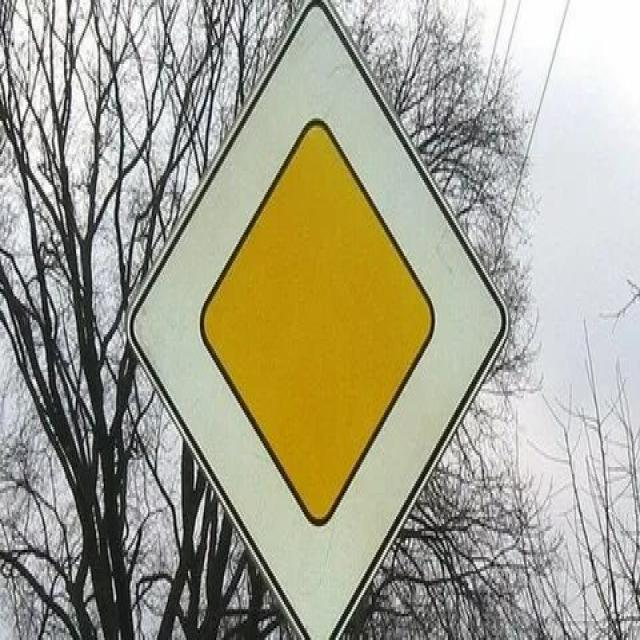signs: (129, 0, 510, 640)
